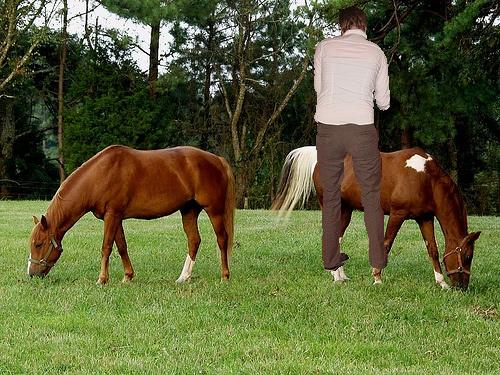tampered: (314, 8, 390, 271)
